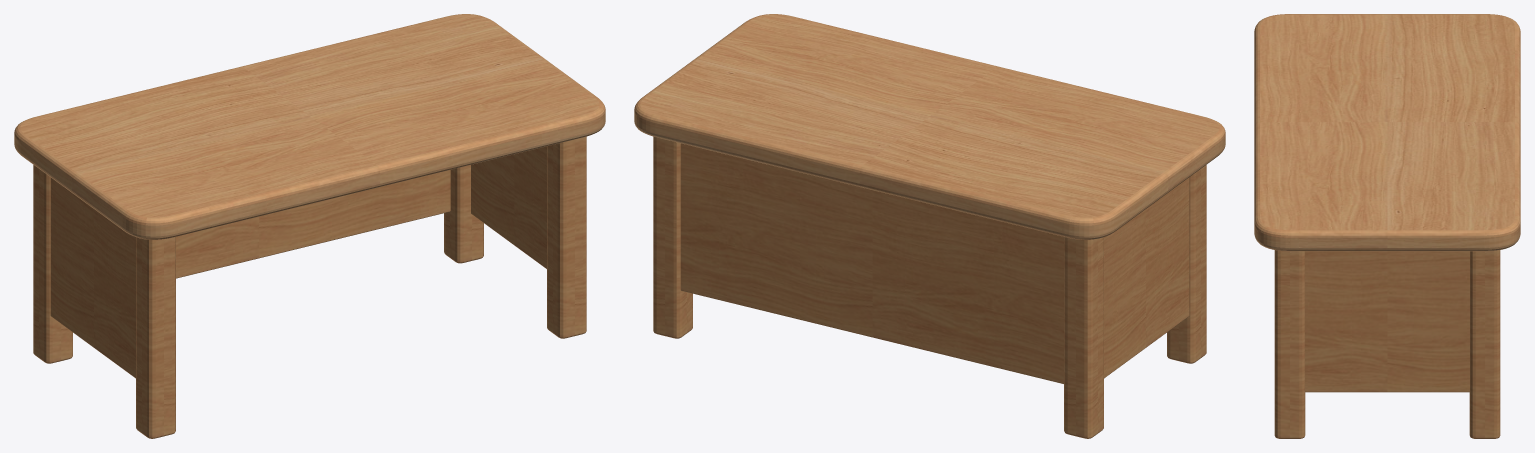
Rendered from oakDesk.glb.
3 views of the same model, side by side, from view 1: azimuth 30°, elevation 25°; view 2: azimuth 150°, elevation 25°; view 3: azimuth 270°, elevation 25° (orthographic). The views are drawn at different scales.
Parts seen in each view (by area): view 1: table_top, apron_left, apron_back, leg_back_left, leg_back_right, apron_right, leg_front_left, leg_front_right; view 2: table_top, apron_back, apron_left, leg_front_left, leg_front_right, leg_back_left; view 3: table_top, apron_right, leg_front_right, leg_back_right.
Boxes of the visible parts, x1,y1,x2,y2 form: table_top: (14,14,605,239); apron_left: (50,177,135,378); apron_back: (176,170,450,278); leg_back_left: (136,237,175,438); leg_back_right: (547,136,586,338); apron_right: (471,146,546,268); leg_front_left: (33,165,72,363); leg_front_right: (444,165,483,263); table_top: (634,14,1225,239); apron_back: (680,143,1063,383); apron_left: (1104,177,1189,378); leg_front_left: (1064,237,1103,438); leg_front_right: (653,136,692,338); leg_back_left: (1167,165,1206,363); table_top: (1254,14,1520,251); apron_right: (1305,251,1469,392); leg_front_right: (1469,250,1500,438); leg_back_right: (1274,250,1305,438).
Size of the model in its own units: 0.734 by 0.3351 by 0.375.
3 materials, 3 textured.
